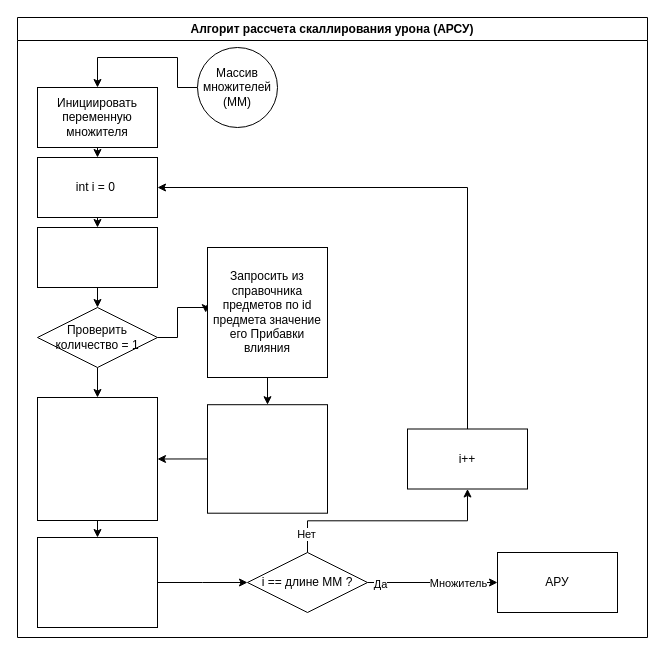
This 665x655 diagram has some shape labels left out. The shapes that lost their labels are listed below. From the top down, each one's box as (x1, y1, x2, y2) in pixels, then its label:
(36, 226, 158, 288): Взять i-тый элемент массива
(36, 396, 158, 520): Запросить из справочника предметов по id предмета значение его Множителя влияния
(206, 404, 328, 513): Переменная множителя += (Количество предметов -1) * ПРибавку влияния
(36, 536, 158, 628): Переменная множителя += Множитель влияния
